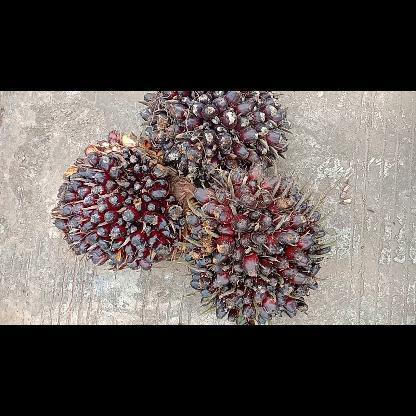TBS mentah: (178, 164, 331, 324), (49, 130, 201, 272), (136, 91, 290, 181)
